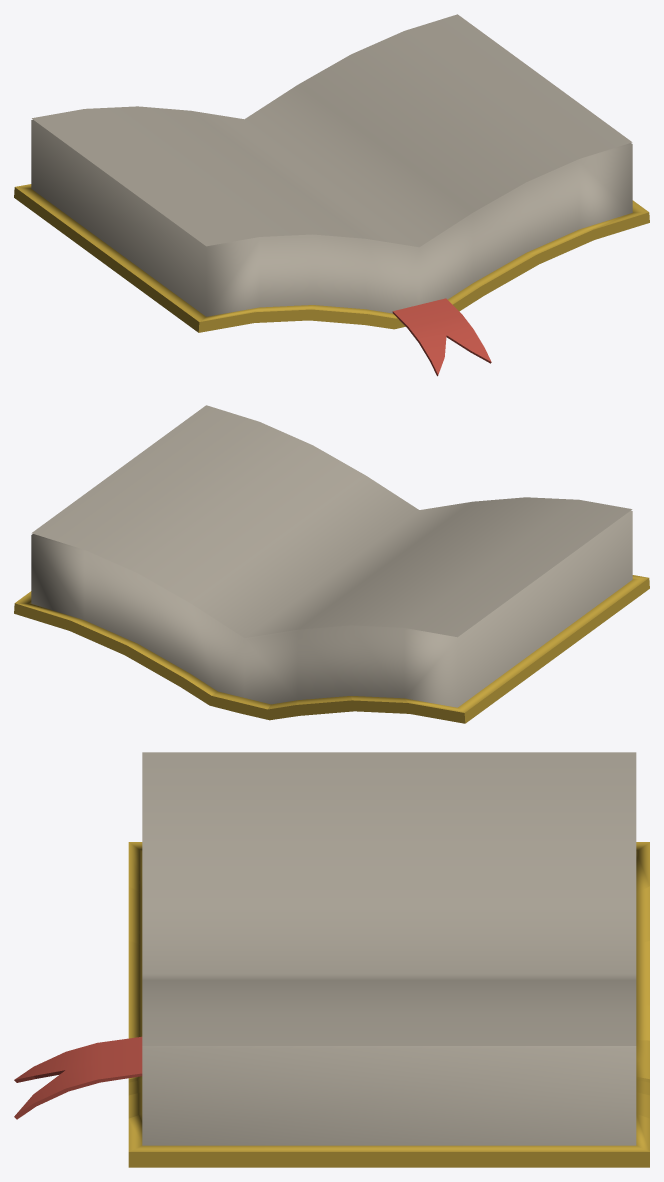
File: Book_v1.fbx
The picture shows the model from 3 angles, top to bottom: view 1: azimuth 30°, elevation 25°; view 2: azimuth 150°, elevation 25°; view 3: azimuth 270°, elevation 25°; orthographic projection. The views are drawn at different scales.
Visible parts, largest first — view 1: Page, Book, Ribbon; view 2: Page, Book; view 3: Page, Book, Ribbon.
Boxes of the visible parts, x1,y1,x2,y2 form: Page: [32, 14, 632, 247]; Book: [14, 120, 649, 332]; Ribbon: [392, 298, 491, 376]; Page: [31, 405, 632, 638]; Book: [14, 510, 649, 723]; Page: [142, 752, 636, 1045]; Book: [128, 842, 649, 1167]; Ribbon: [14, 1036, 142, 1119].
Size of the model in its own units: 4.23 by 1.28 by 3.66.
